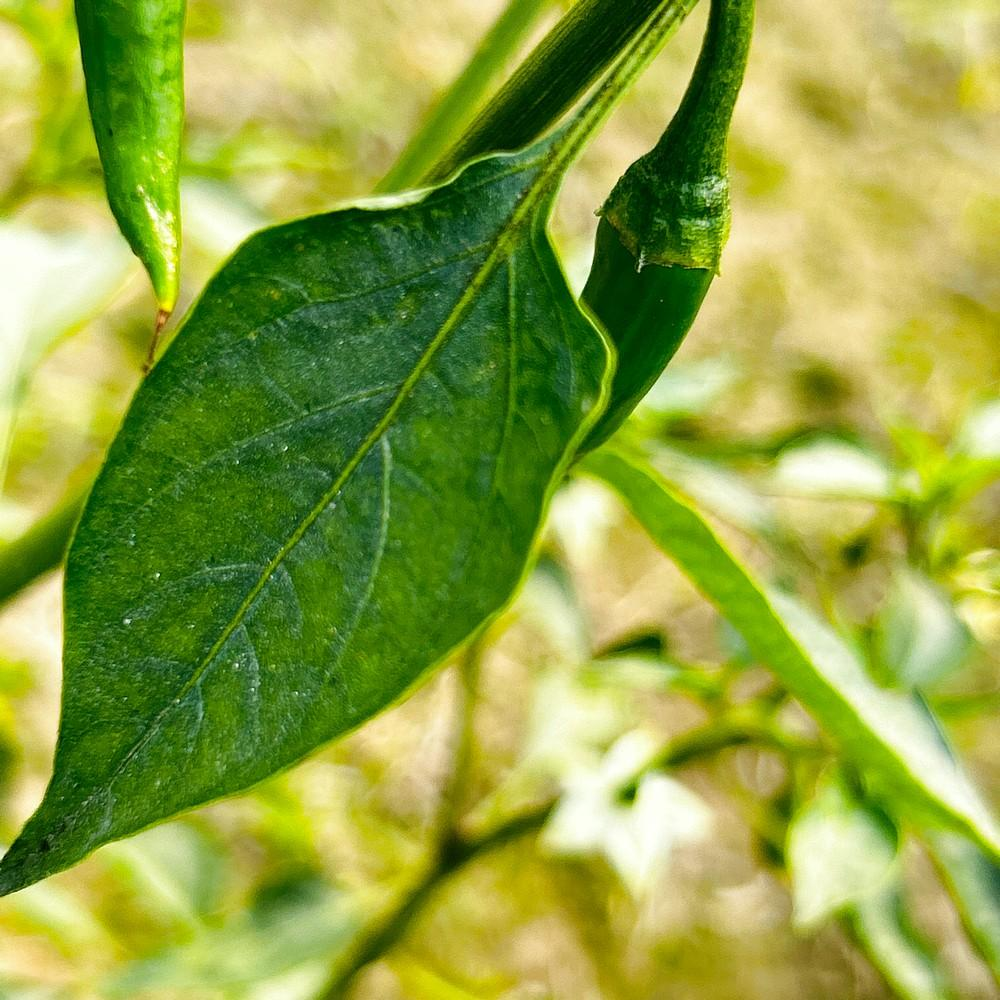Buah Cabai Sehat: (62, 0, 193, 350)
Daun Cabai Sehat: (0, 137, 623, 898)
